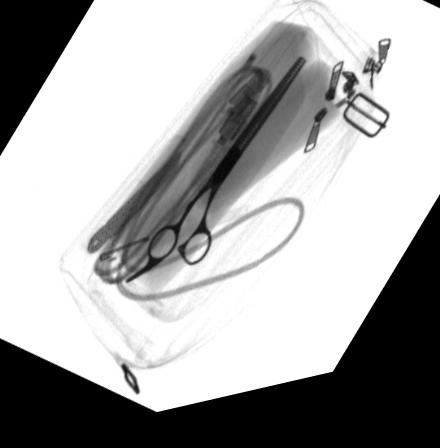Knife: (86, 157, 180, 257)
Scissors: (122, 68, 307, 288)
